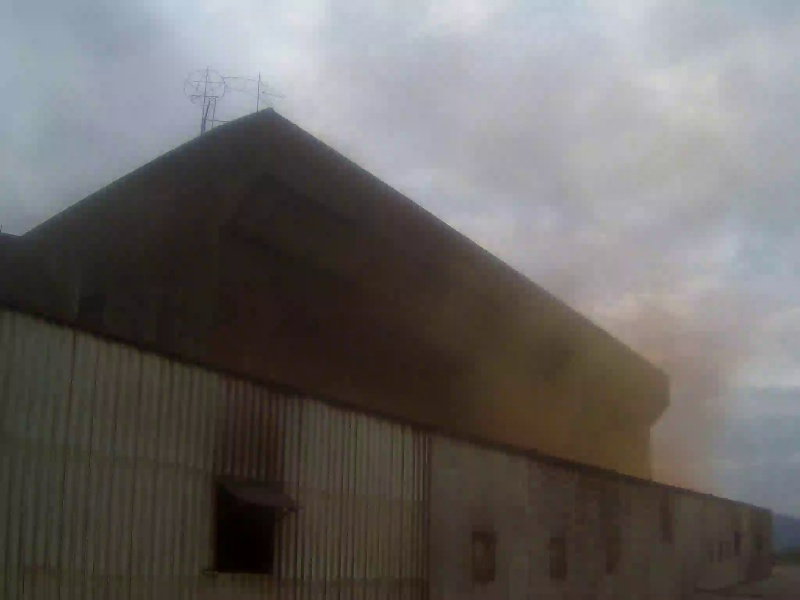Pessimo: (427, 150, 762, 504)
